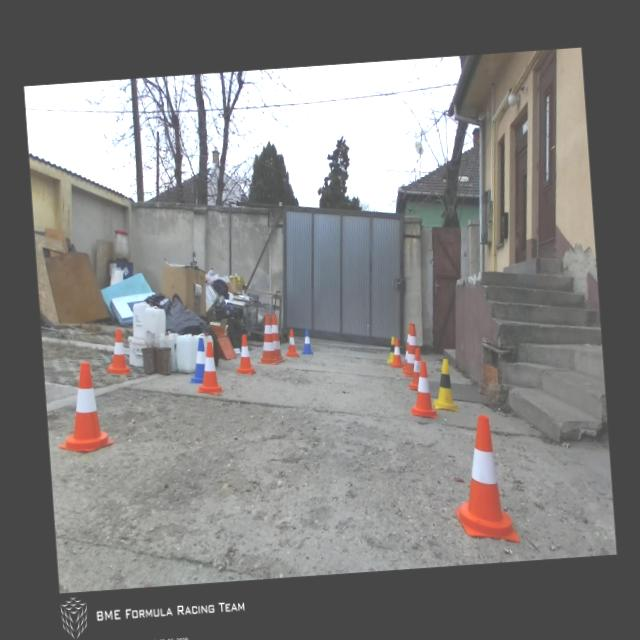blue_cone: (186, 337, 208, 383), (300, 328, 313, 354)
large_orange_cone: (254, 312, 279, 365), (400, 322, 420, 378), (398, 322, 416, 372), (270, 313, 284, 362)
orange_cone: (448, 412, 520, 547), (52, 360, 116, 453), (407, 359, 437, 419), (192, 340, 224, 394), (104, 327, 132, 375), (232, 334, 255, 376), (406, 347, 423, 389), (283, 328, 299, 357), (388, 338, 403, 368)
yellow_cone: (429, 358, 458, 412), (385, 336, 396, 362)
